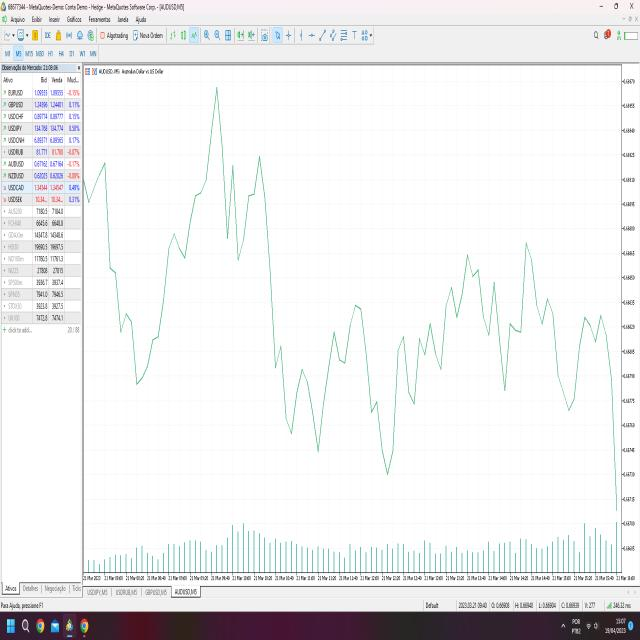fundo_duplo: (265, 342, 337, 476)
oco: (505, 228, 560, 394)
